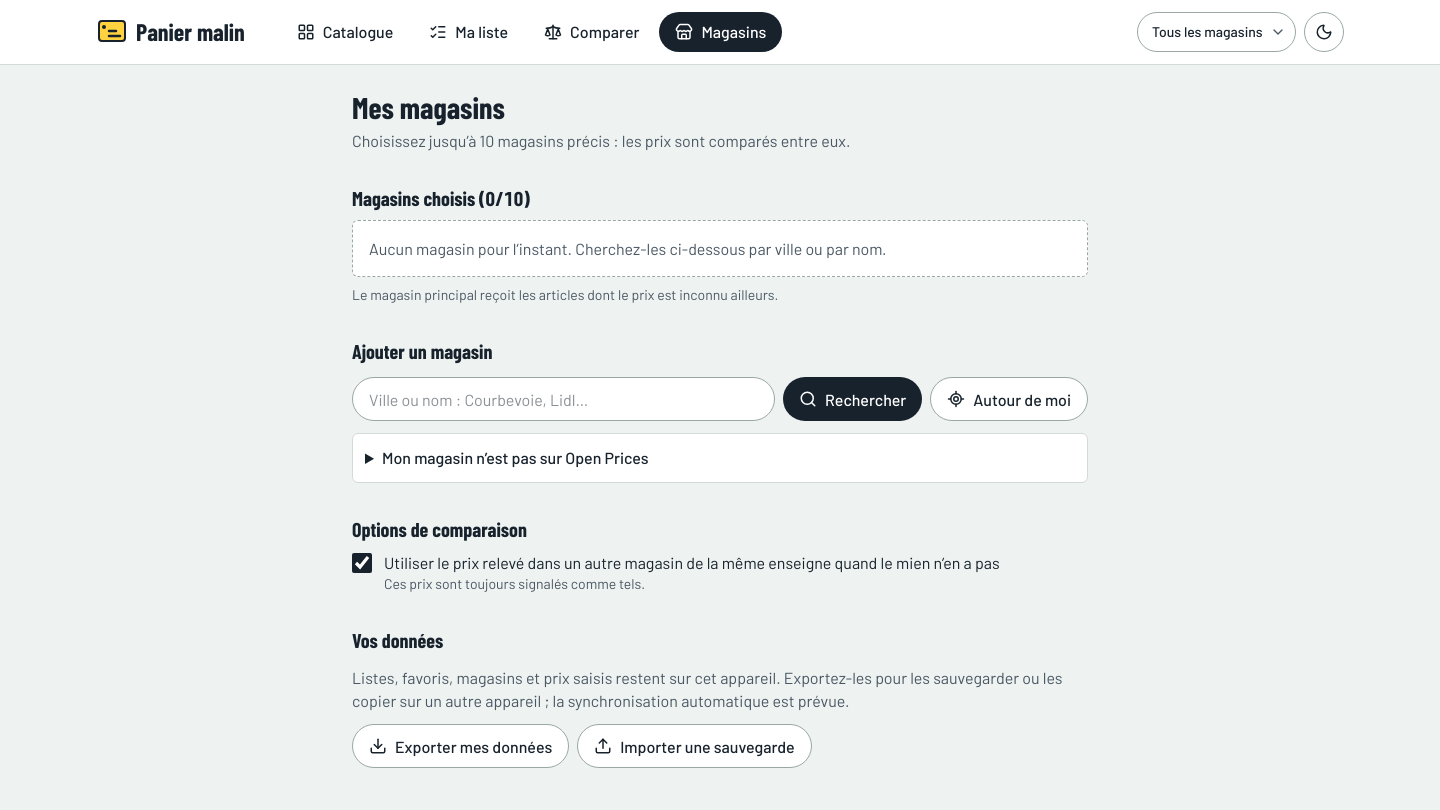
Scenario: mes magasins › explique une panne d’Open Prices
In the field named "Ville ou nom du magasin": (564, 399) [352,377,775,421], type "courbevoie"
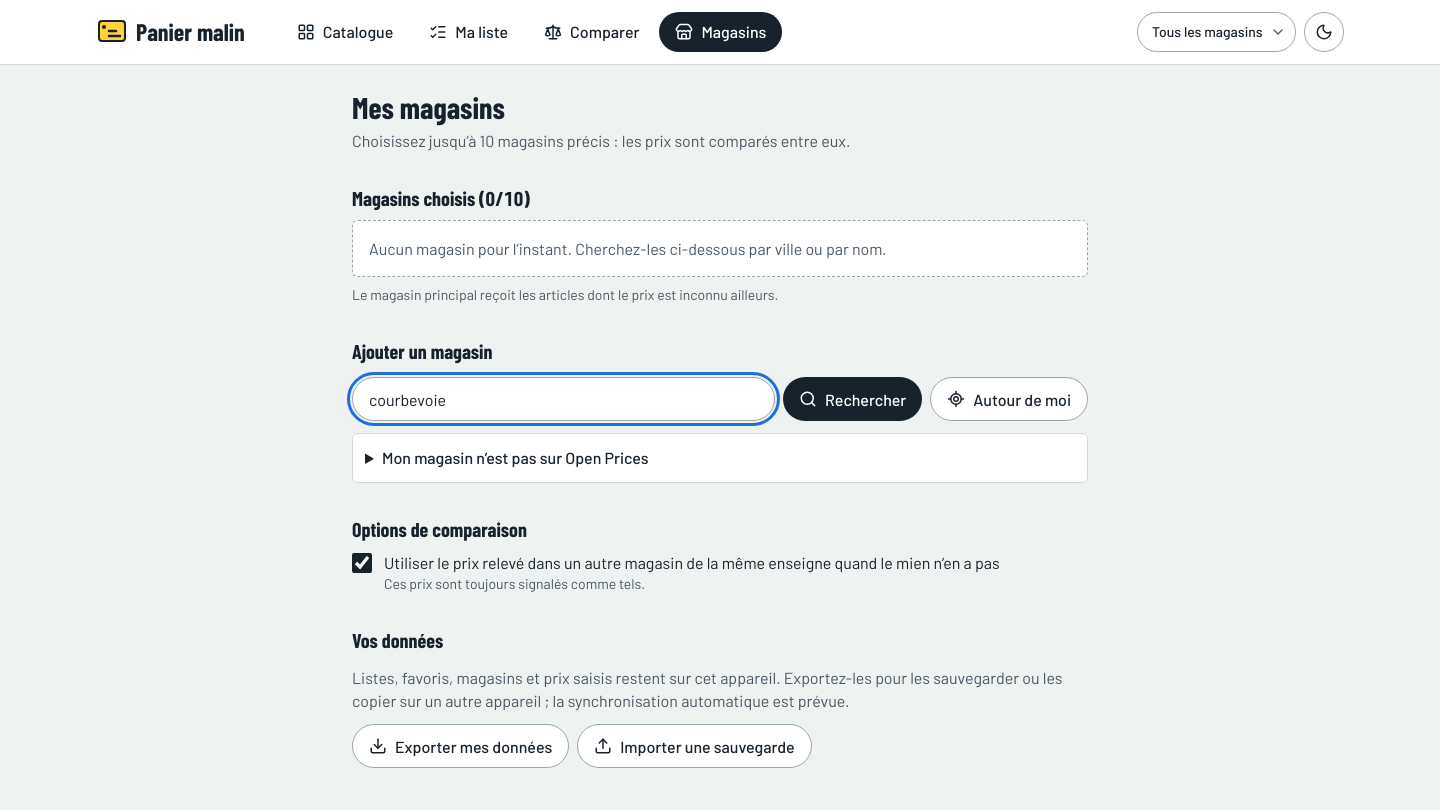
Click the button "Rechercher": click(853, 399) [783,377,922,421]
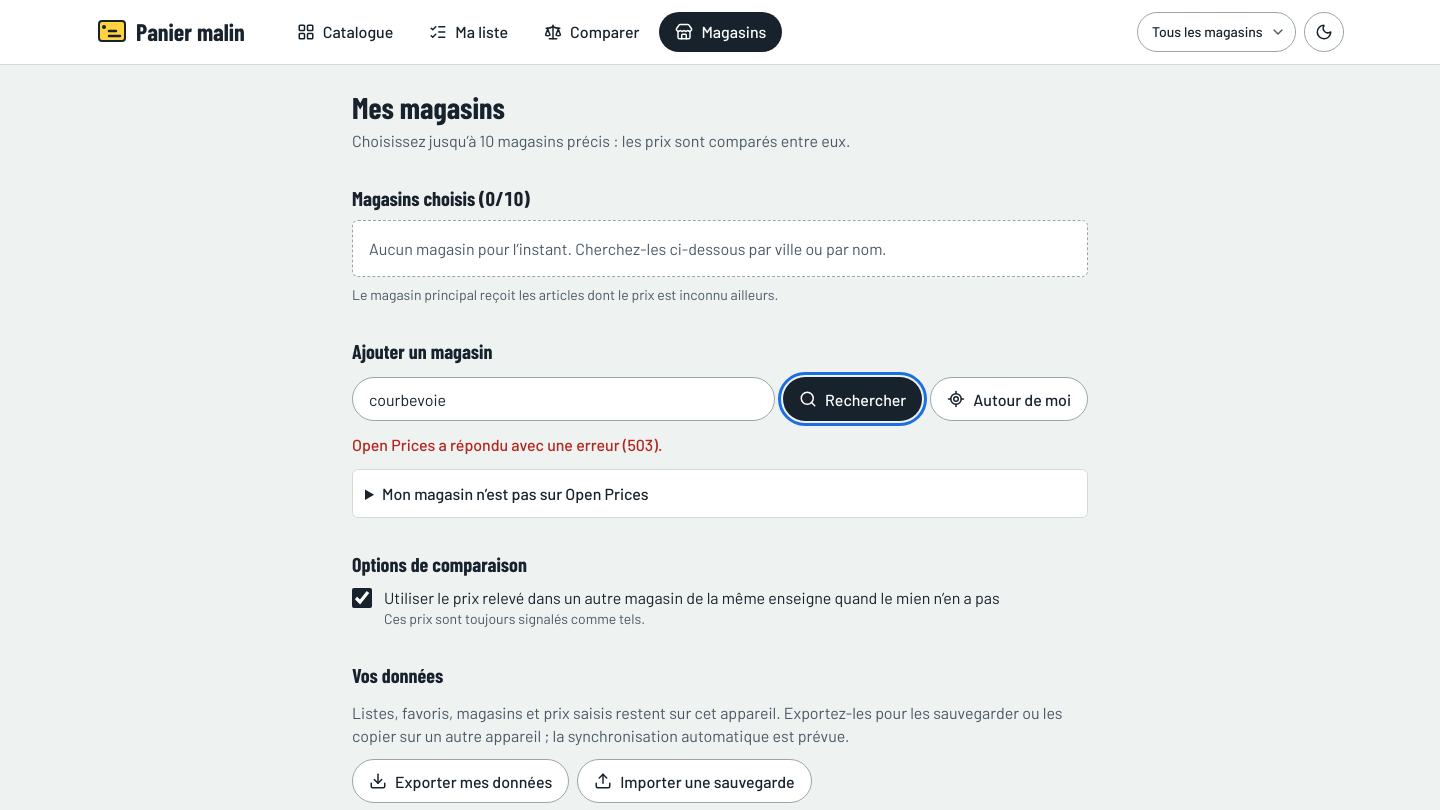
Result: the text "Open Prices a répondu avec une erreur (503)." is shown at [352,435,662,454]
